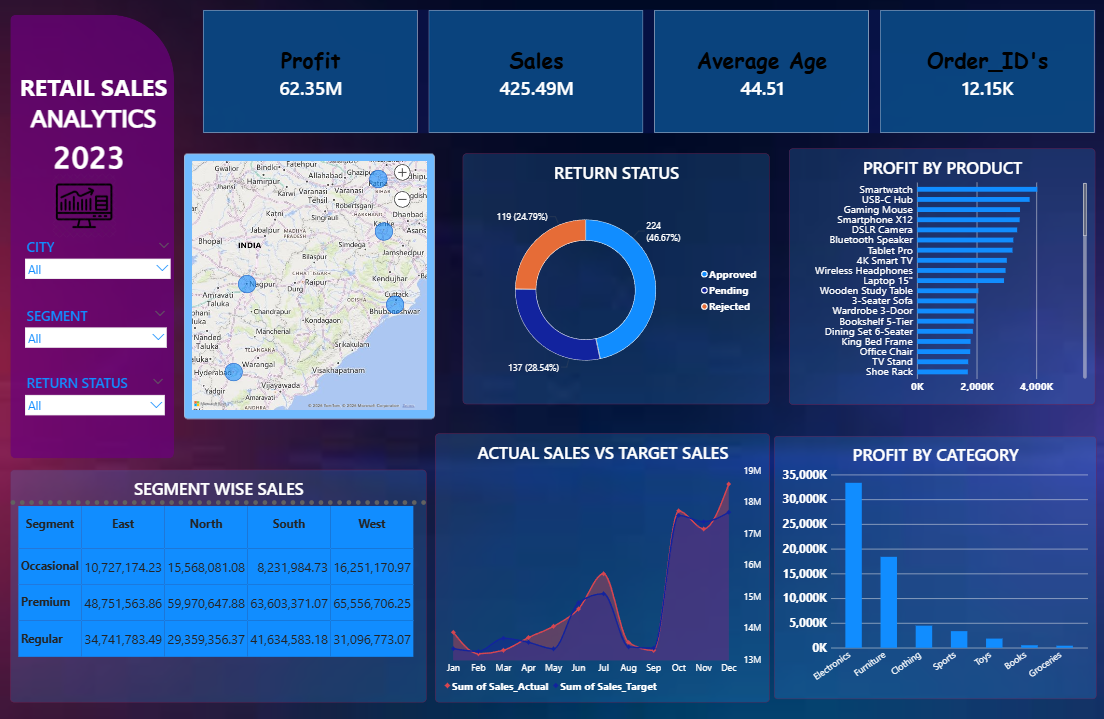

What the dashboard file says about the page in this screenshot:
{"tool":"powerbi","page":{"name":"Page 1","canvas":[2300,1500],"ordinal":0},"visuals":[{"type":"donutChart","title":"RETURN STATUS","fields":{"Category":["returns.Status"],"Y":["CountNonNull(returns.Category)"]},"box":[962.6,326.7,635.9,520.3],"z":0},{"type":"pivotTable","title":"SEGMENT WISE SALES","fields":{"Rows":["customers.Segment"],"Columns":["customers.Region"],"Values":["Sum(retail_sales_2023.Sales)"]},"box":[23.3,982.5,863.3,482.2],"z":1000},{"type":"shape","box":[23.3,38.9,339.6,920.3],"z":2000},{"type":"slicer","fields":{"Values":["customers.Segment"]},"box":[49.3,642.9,303.3,106.3],"z":3000},{"type":"lineChart","title":"ACTUAL SALES VS TARGET SALES","fields":{"Category":["monthly_targets.Month"],"Y2":["Sum(monthly_targets.Sales_Actual)","Sum(monthly_targets.Sales_Target)"]},"box":[904.8,907.3,693.7,558],"z":4000},{"type":"clusteredBarChart","title":"PROFIT BY PRODUCT","fields":{"Category":["products.Product_Name"],"Y":["Sum(retail_sales_2023.Profit)"]},"box":[1638.4,316.3,635.2,531.5],"z":5000},{"type":"cardVisual","fields":{"Data":["Sum(retail_sales_2023.Profit)","Sum(retail_sales_2023.Sales)","Avg(customers.Age)","CountNonNull(retail_sales_2023.Order_ID)"]},"box":[422.3,27.6,1852.4,256.4],"z":6000},{"type":"slicer","fields":{"Values":["returns.Status"]},"box":[50.3,781.7,299.1,130.7],"z":7000},{"type":"clusteredColumnChart","title":"PROFIT BY CATEGORY","fields":{"Category":["products.Category"],"Y":["Sum(retail_sales_2023.Profit)"]},"box":[1606.1,912.4,668.6,545.4],"z":8000},{"type":"textbox","box":[49.3,142.6,256.7,54.4],"z":9000},{"type":"textbox","box":[40.2,155.8,309.2,374.5],"z":10000},{"type":"slicer","fields":{"Values":["customers.City"]},"box":[50.3,500.2,311.7,105.6],"z":11000},{"type":"map","fields":{"Category":["customers.City"]},"box":[384.6,326.7,520.3,550.4],"z":12000},{"type":"image","box":[22.6,367,306.6,133.2],"z":13000}]}

Visuals, with their boxes in screenshot pixels (x1, y1, x2, y2), scaled from the page's 2300x1500 canvas onto the 1104x719 screenshot:
"RETURN STATUS" donutChart: <box>462,157,767,406</box>
"SEGMENT WISE SALES" pivotTable: <box>11,471,426,702</box>
shape: <box>11,19,174,460</box>
slicer - customers.Segment: <box>24,308,169,359</box>
"ACTUAL SALES VS TARGET SALES" lineChart: <box>434,435,767,702</box>
"PROFIT BY PRODUCT" clusteredBarChart: <box>786,152,1091,406</box>
cardVisual - Sum(retail_sales_2023.Profit) x Sum(retail_sales_2023.Sales): <box>203,13,1092,136</box>
slicer - returns.Status: <box>24,375,168,437</box>
"PROFIT BY CATEGORY" clusteredColumnChart: <box>771,437,1092,699</box>
textbox: <box>24,68,147,94</box>
textbox: <box>19,75,168,254</box>
slicer - customers.City: <box>24,240,174,290</box>
map - customers.City: <box>185,157,434,420</box>
image: <box>11,176,158,240</box>
